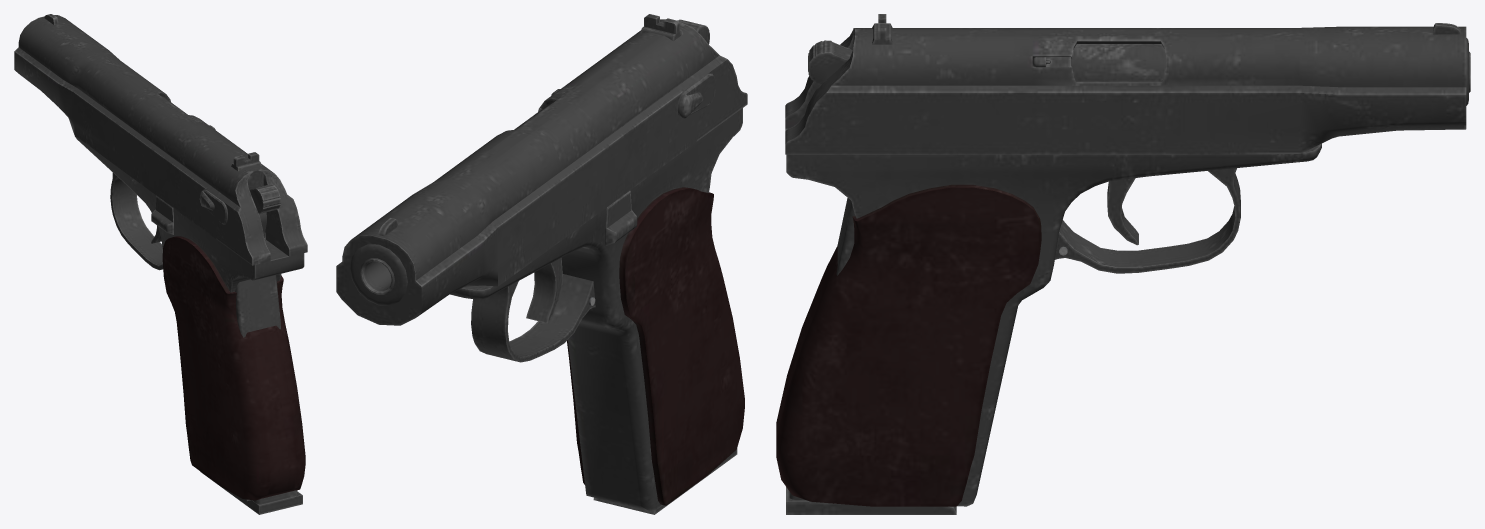
The model's file is makarov_3dmcc0.glb.
3 views of the same model, side by side, from view 1: azimuth 30°, elevation 25°; view 2: azimuth 150°, elevation 25°; view 3: azimuth 270°, elevation 25° (orthographic). The views are drawn at different scales.
Visible parts, largest first — view 1: Body, Slide, Magazine, Hammer, Safety; view 2: Body, Slide, Trigger, Barrel, Safety; view 3: Body, Slide, Barrel, Magazine, Hammer, Trigger.
Boxes of the visible parts, left/top/right/bottom form: Body: left=74, top=135, right=305, bottom=501; Slide: left=14, top=14, right=307, bottom=265; Magazine: left=200, top=275, right=302, bottom=514; Hammer: left=249, top=184, right=280, bottom=237; Safety: left=199, top=189, right=227, bottom=224; Body: left=450, top=108, right=744, bottom=510; Slide: left=336, top=14, right=747, bottom=325; Trigger: left=526, top=258, right=562, bottom=323; Barrel: left=360, top=104, right=550, bottom=294; Safety: left=678, top=73, right=715, bottom=118; Body: left=776, top=143, right=1321, bottom=506; Slide: left=785, top=14, right=1468, bottom=154; Barrel: left=1071, top=44, right=1470, bottom=92; Magazine: left=786, top=198, right=956, bottom=514; Hammer: left=808, top=40, right=852, bottom=85; Trigger: left=1107, top=178, right=1138, bottom=245.
Size of the model in its own units: 0.0257 by 0.1279 by 0.1685.
1 material, 1 textured.
